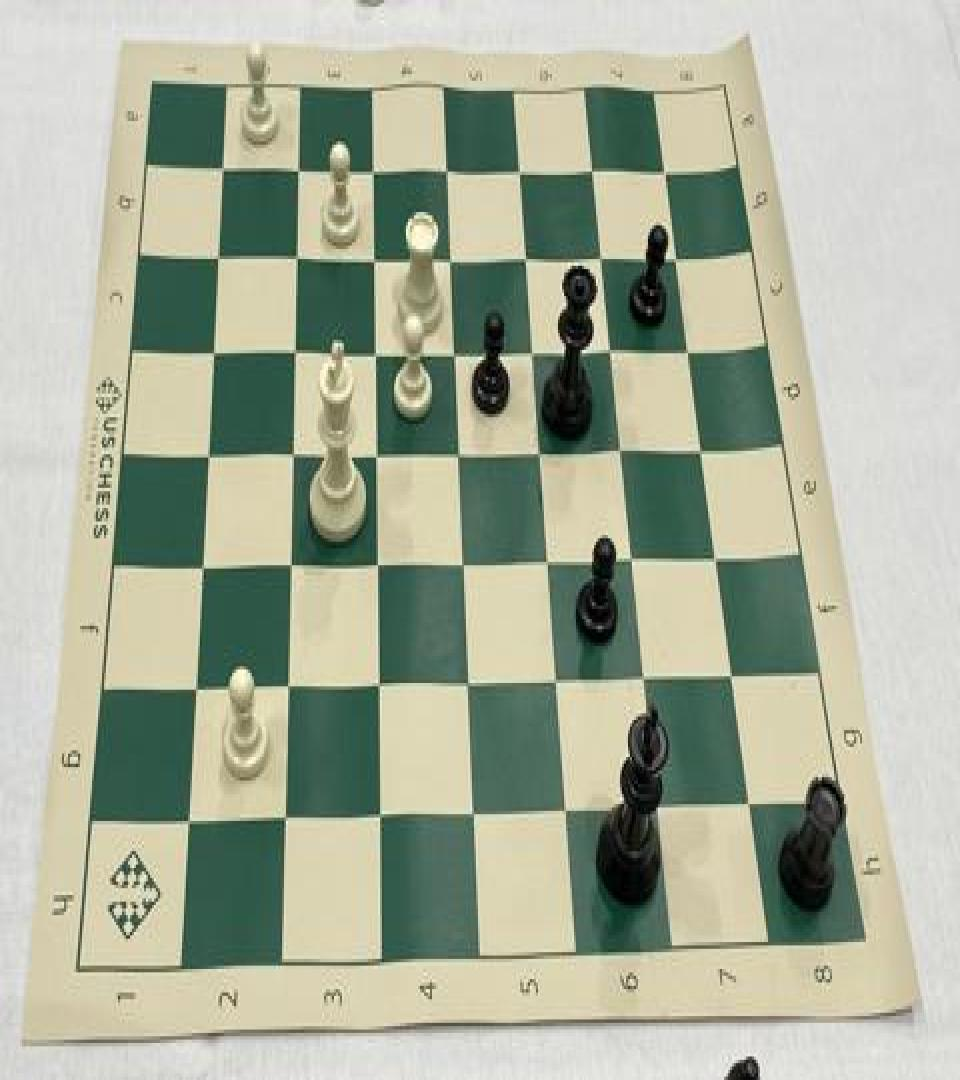xcorner: (436, 146, 458, 184), (362, 146, 384, 184), (287, 146, 309, 184), (211, 144, 233, 182), (540, 538, 562, 576), (278, 664, 300, 702), (654, 148, 676, 185), (582, 148, 604, 185), (510, 148, 532, 185), (666, 234, 688, 271), (592, 234, 614, 271), (516, 234, 538, 271), (440, 234, 462, 271), (363, 234, 385, 271), (286, 234, 308, 271), (207, 234, 229, 271), (679, 326, 701, 363), (602, 326, 624, 363), (524, 328, 546, 365), (445, 328, 467, 365), (365, 328, 387, 365), (284, 328, 306, 365), (531, 429, 553, 466), (449, 429, 471, 466), (366, 431, 388, 468), (282, 431, 304, 468), (197, 432, 219, 469), (624, 536, 646, 573), (454, 540, 476, 577), (191, 545, 213, 582), (724, 651, 746, 688), (637, 654, 659, 691), (549, 656, 571, 693), (370, 661, 392, 698), (185, 668, 207, 705), (742, 779, 764, 816), (651, 782, 673, 819), (466, 789, 488, 826), (371, 794, 393, 831), (178, 801, 200, 838), (202, 330, 224, 366), (693, 426, 715, 462), (613, 428, 635, 464), (708, 534, 730, 570), (368, 542, 390, 578), (280, 544, 302, 580), (460, 660, 482, 696), (559, 786, 581, 822), (276, 798, 298, 834)
